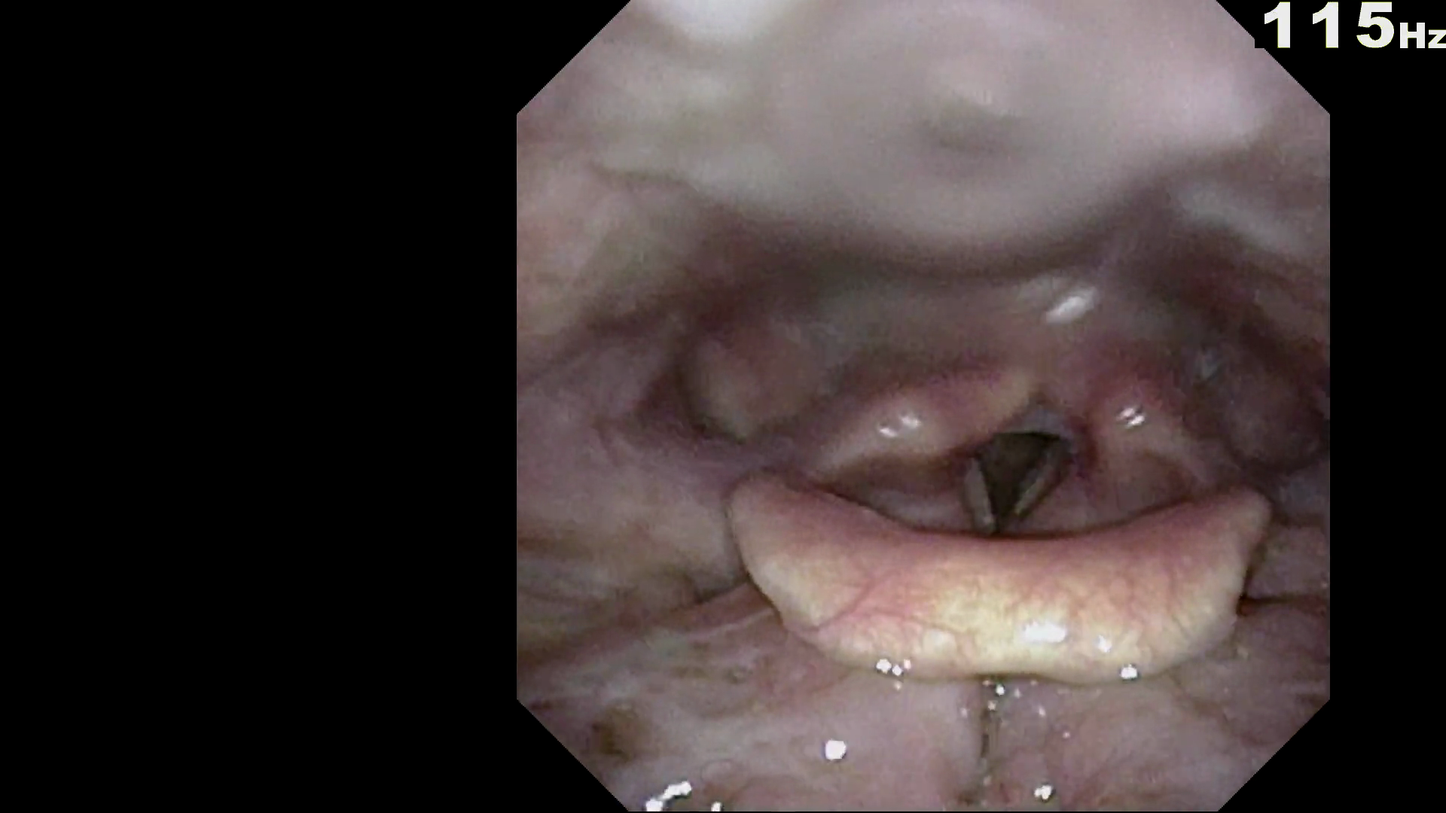epiglottis: (679, 513, 1288, 713)
trachea: (962, 446, 1060, 553)
